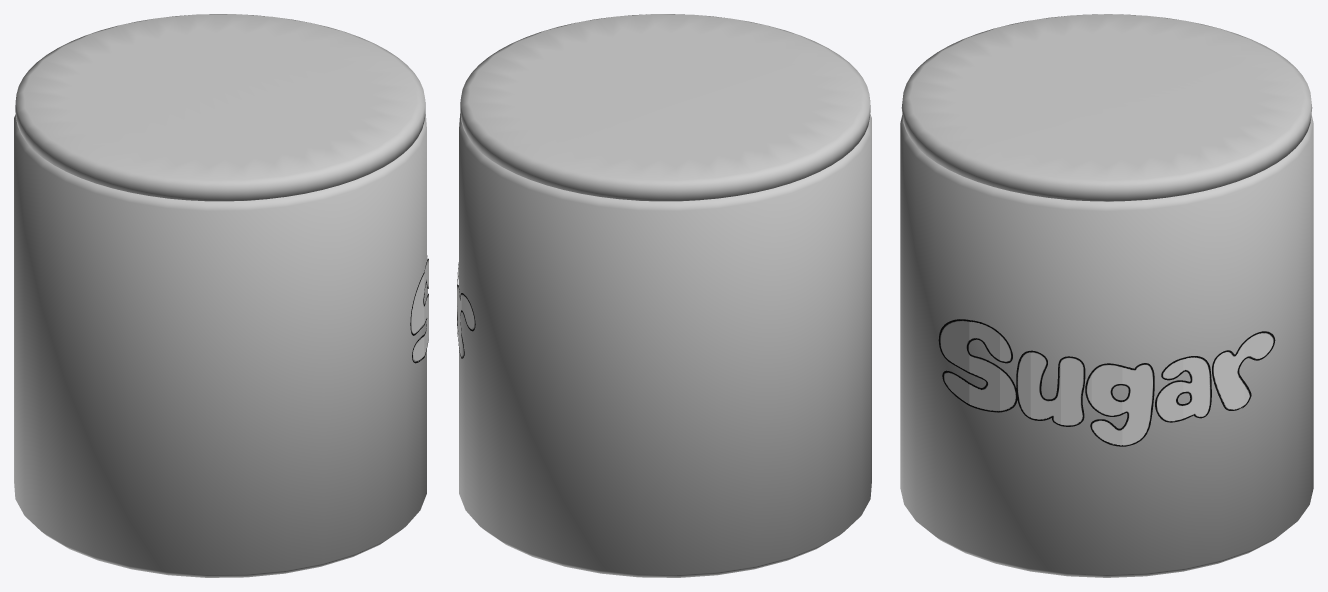
File: sugar.fbx
3 renders of one model, left to right at view 1: azimuth 30°, elevation 25°; view 2: azimuth 150°, elevation 25°; view 3: azimuth 270°, elevation 25°, orthographic.
Visible parts, largest first — view 1: Cylinder.001; view 2: Cylinder.001; view 3: Cylinder.001.
Boxes of the visible parts, x1,y1,x2,y2 form: Cylinder.001: (14,14,428,577); Cylinder.001: (457,14,871,577); Cylinder.001: (900,14,1313,577).
Size of the model in its own units: 20.05 by 21.15 by 20.
